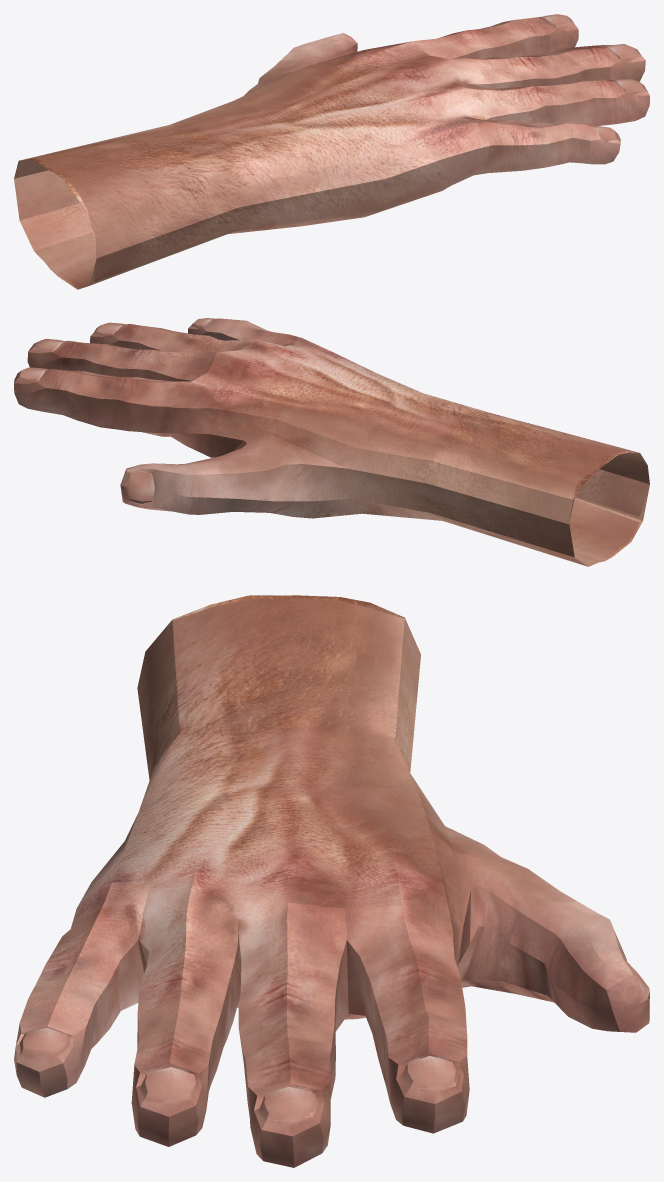
Rendered from hands 1.fbx.
The picture shows the model from 3 angles, top to bottom: view 1: azimuth 30°, elevation 25°; view 2: azimuth 150°, elevation 25°; view 3: azimuth 270°, elevation 25°; orthographic projection. The views are drawn at different scales.
Visible parts, largest first — view 1: Cube.000_Cube.017_Detached; view 2: Cube.000_Cube.017_Detached; view 3: Cube.000_Cube.017_Detached.
Part boxes in pixels (bbox=[...]): Cube.000_Cube.017_Detached: bbox=[14, 14, 649, 289]; Cube.000_Cube.017_Detached: bbox=[14, 318, 649, 566]; Cube.000_Cube.017_Detached: bbox=[14, 595, 649, 1167].
Size of the model in its own units: 0.2575 by 0.0487 by 0.1398.
Materials: 1 (1 with a texture image).
